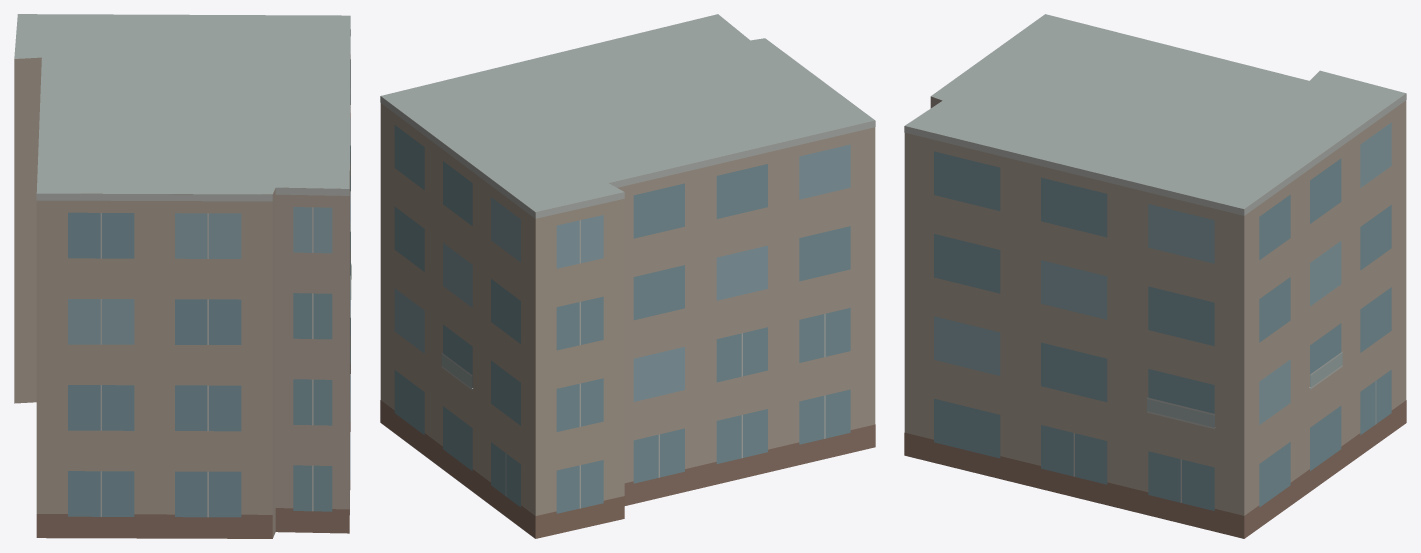
Rendered from survey-upis-33013294.glb.
3 renders of one model, left to right at view 1: azimuth 30°, elevation 25°; view 2: azimuth 150°, elevation 25°; view 3: azimuth 270°, elevation 25°, orthographic. The views are drawn at different scales.
Parts seen in each view (by area): view 1: survey-upis-33013294.tmp; view 2: survey-upis-33013294.tmp; view 3: survey-upis-33013294.tmp.
Boxes of the visible parts, x1,y1,x2,y2 form: survey-upis-33013294.tmp: [14, 14, 351, 538]; survey-upis-33013294.tmp: [380, 14, 875, 538]; survey-upis-33013294.tmp: [904, 14, 1406, 538].
Size of the model in its own units: 15.25 by 12 by 16.57.
